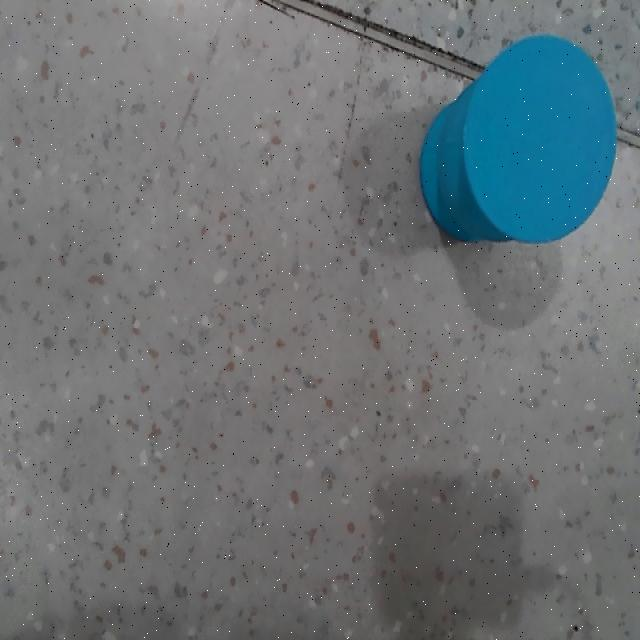b: (463, 36, 617, 244)
